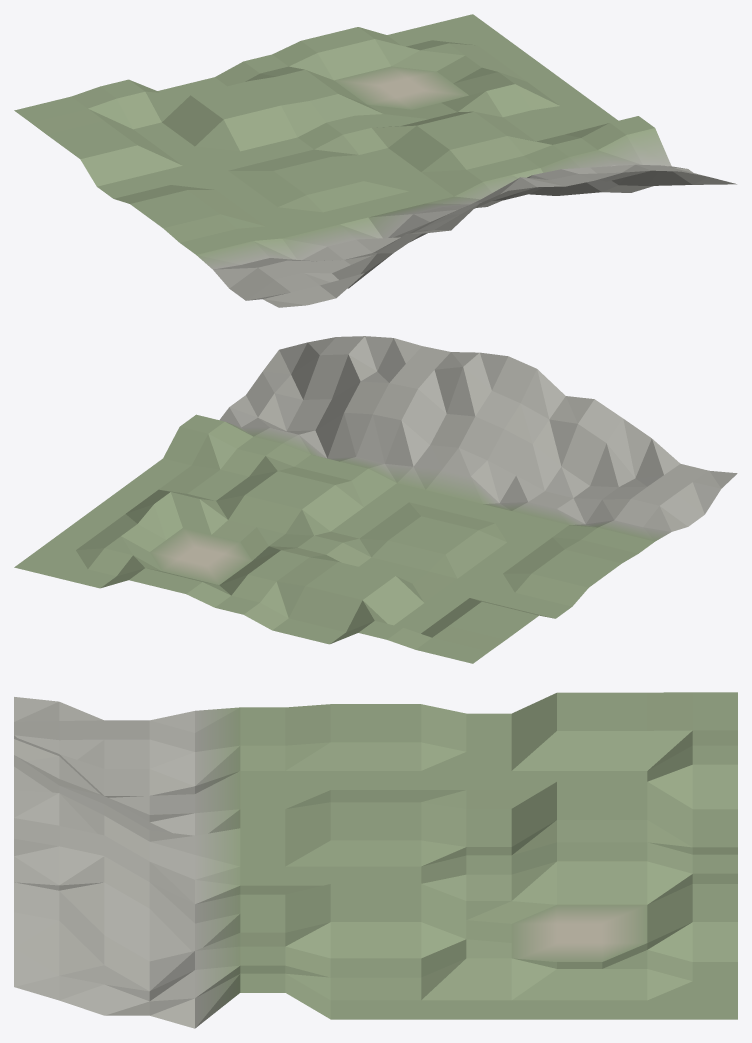
3 views of the same model, one above another, from view 1: azimuth 30°, elevation 25°; view 2: azimuth 150°, elevation 25°; view 3: azimuth 270°, elevation 25° (orthographic). The views are drawn at different scales.
Bounding box in the file's own units: 32 × 5.63 × 32.
